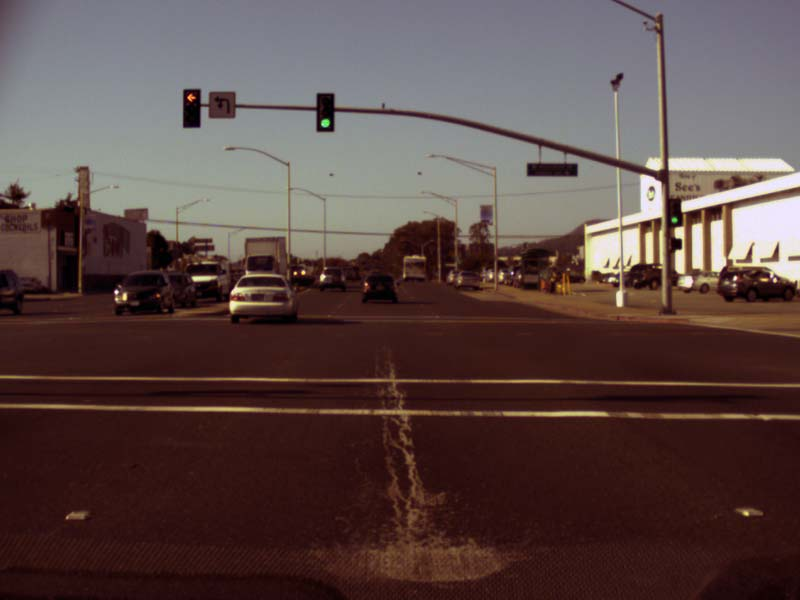Green: (316, 93, 333, 131), (667, 199, 683, 226)
Red: (183, 89, 199, 126)
